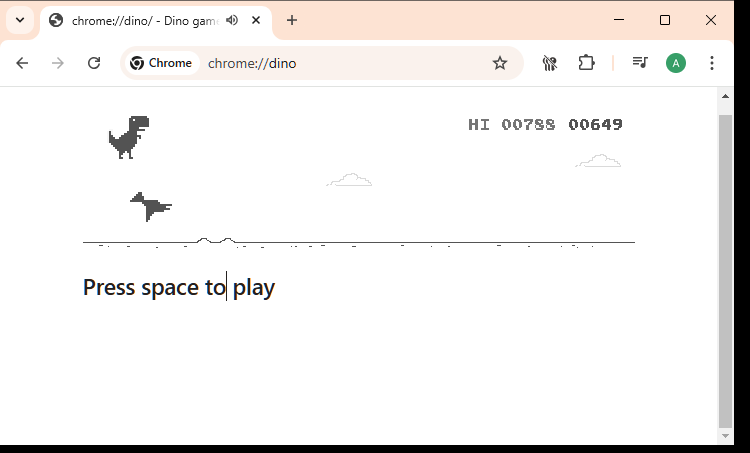bird: (129, 191, 173, 223)
dino: (108, 115, 150, 161)
